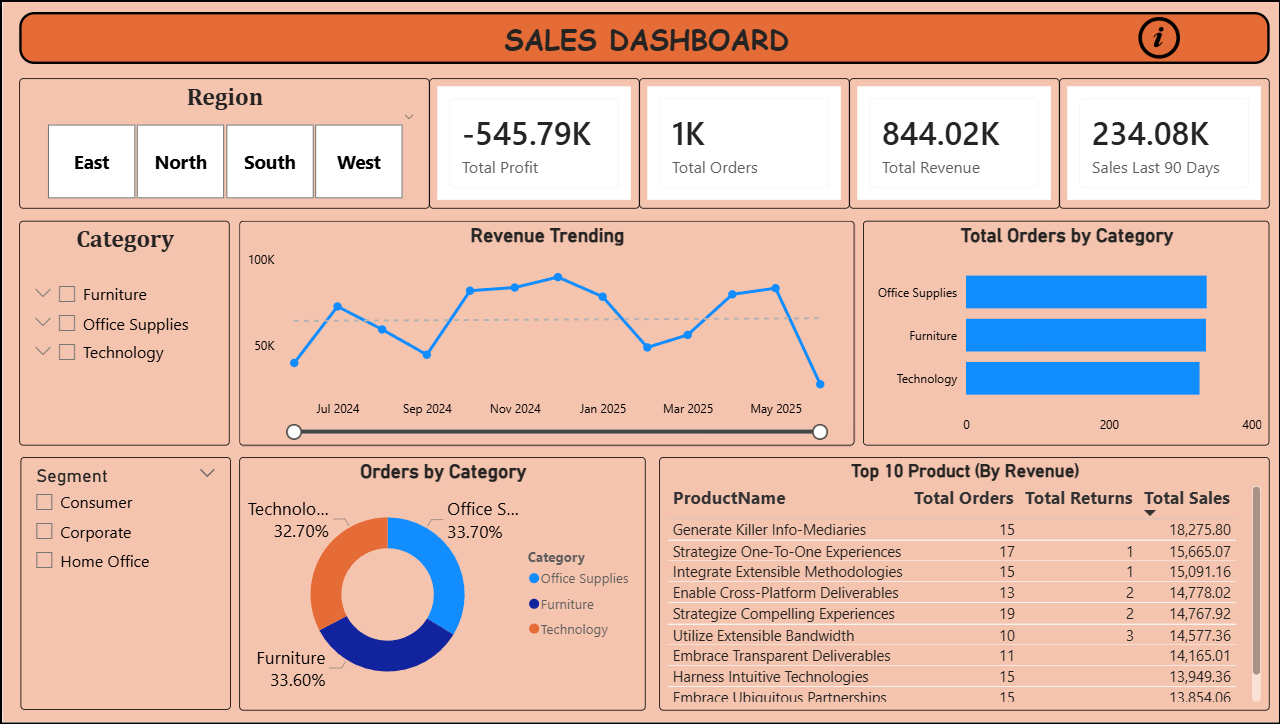

The dashboard page shown, as its layout file describes it:
{"tool":"powerbi","page":{"name":"Sales Dashboard","canvas":[1280,720],"ordinal":0},"visuals":[{"type":"textbox","title":"           SALES DASHBOARD","box":[16.7,10,1250,51.7],"z":0},{"type":"cardVisual","title":"Total Profit","fields":{"Data":["Measure.Total Profit"]},"box":[426.7,76.7,210,130],"z":1000},{"type":"cardVisual","fields":{"Data":["Measure.Total Orders"]},"box":[636.7,76.7,210,130],"z":2000},{"type":"cardVisual","fields":{"Data":["Measure.Total Revenue"]},"box":[846.7,76.7,210,130],"z":3000},{"type":"cardVisual","fields":{"Data":["Measure.Sales Last 90 Days"]},"box":[1056.7,76.7,210,130],"z":4000},{"type":"slicer","title":"Region","fields":{"Values":["Region_Dim.RegionName"]},"box":[16.7,76.7,410,130],"z":5000},{"type":"slicer","title":"Category","fields":{"Values":["Product_Dim.Category Hierarchy.Category","Product_Dim.Category Hierarchy.SubCategory","Product_Dim.Category Hierarchy.ProductName"]},"box":[16.7,218.3,210,225],"z":6000},{"type":"lineChart","title":"Revenue Trending","fields":{"Category":["Date_Dim.Date.Variation.Date Hierarchy.Year","Date_Dim.Date.Variation.Date Hierarchy.Quarter","Date_Dim.Date.Variation.Date Hierarchy.Month"],"Y":["Measure.Total Sales"]},"box":[236.7,218.3,615,225],"z":7000},{"type":"clusteredBarChart","fields":{"Y":["Measure.Total Orders"],"Category":["Product_Dim.Category"]},"box":[860,218.3,406.7,225],"z":8000},{"type":"donutChart","title":" Orders by Category","fields":{"Y":["Measure.Total Orders"],"Category":["Product_Dim.Category"]},"box":[236.7,455,406.7,253.3],"z":9000},{"type":"tableEx","title":"Top 10 Product (By Revenue)","fields":{"Values":["Product_Dim.ProductName","Measure.Total Orders","Measure.Total Returns","Measure.Total Sales"]},"box":[656.7,455,610,253.3],"z":10000},{"type":"slicer","fields":{"Values":["Customer_Dim.Segment"]},"box":[17,455,210,253],"z":11000},{"type":"image","box":[1045,15,221.7,41.7],"z":12000}]}

Visuals, with their boxes in screenshot pixels (x1, y1, x2, y2), scaled from the page's 1280x720 canvas onto the 1280x724 screenshot:
"           SALES DASHBOARD" textbox: <box>17,10,1267,62</box>
"Total Profit" cardVisual: <box>427,77,637,208</box>
cardVisual - Measure.Total Orders: <box>637,77,847,208</box>
cardVisual - Measure.Total Revenue: <box>847,77,1057,208</box>
cardVisual - Measure.Sales Last 90 Days: <box>1057,77,1267,208</box>
"Region" slicer: <box>17,77,427,208</box>
"Category" slicer: <box>17,220,227,446</box>
"Revenue Trending" lineChart: <box>237,220,852,446</box>
clusteredBarChart - Measure.Total Orders x Product_Dim.Category: <box>860,220,1267,446</box>
" Orders by Category" donutChart: <box>237,458,643,712</box>
"Top 10 Product (By Revenue)" tableEx: <box>657,458,1267,712</box>
slicer - Customer_Dim.Segment: <box>17,458,227,712</box>
image: <box>1045,15,1267,57</box>
